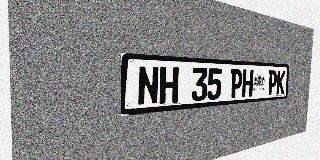3: (191, 68, 208, 102)
5: (207, 68, 222, 100)
H: (159, 66, 179, 104), (242, 69, 254, 97)
K: (276, 70, 285, 94)
N: (137, 66, 159, 106)
P: (230, 69, 243, 98), (267, 70, 277, 95)
